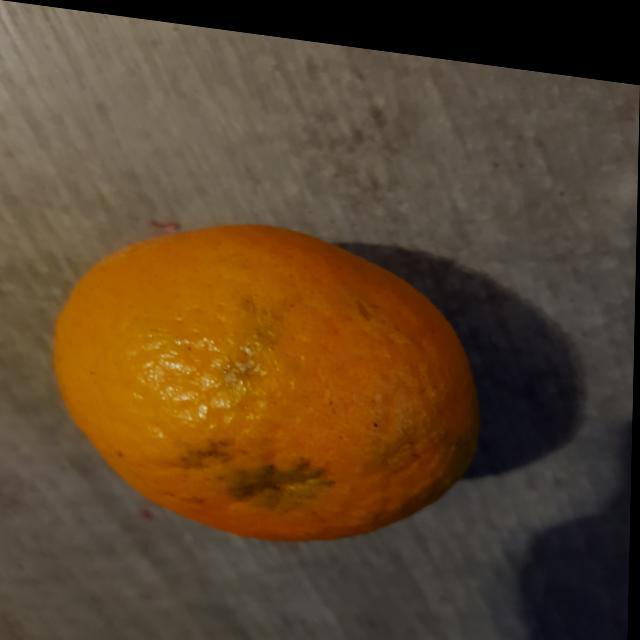Orange: (53, 217, 483, 536)
